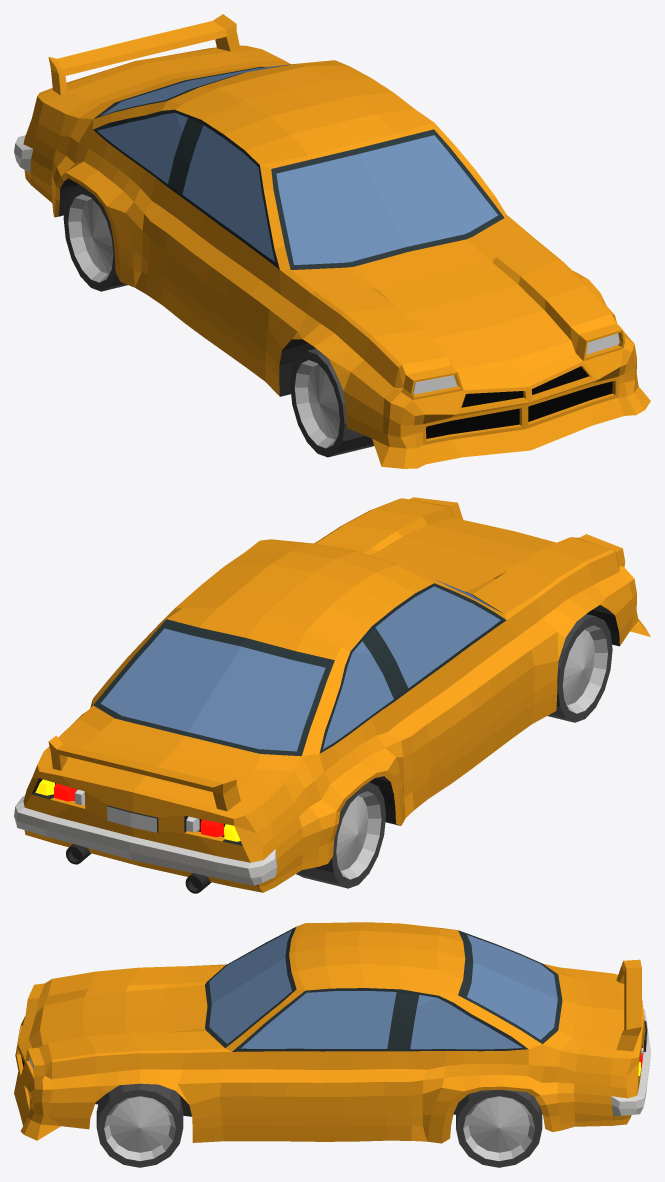
File: opel.fbx
The picture shows the model from 3 angles, top to bottom: view 1: azimuth 30°, elevation 25°; view 2: azimuth 150°, elevation 25°; view 3: azimuth 270°, elevation 25°; orthographic projection. The views are drawn at different scales.
Visible parts, largest first — view 1: Car, wheel_fr, wheel_br; view 2: Car, wheel_fr, wheel_br; view 3: Car, wheel_fl, wheel_bl.
Part boxes in pixels (x1=…): Car: x1=14, y1=14, x2=650, y2=468; wheel_fr: x1=290, y1=348, x2=374, y2=457; wheel_br: x1=63, y1=185, x2=127, y2=291; Car: x1=14, y1=497, x2=650, y2=893; wheel_fr: x1=547, y1=614, x2=612, y2=722; wheel_br: x1=296, y1=782, x2=385, y2=888; Car: x1=14, y1=922, x2=650, y2=1143; wheel_fl: x1=96, y1=1083, x2=183, y2=1167; wheel_bl: x1=456, y1=1089, x2=542, y2=1167.
Size of the model in its own units: 199 by 145 by 494.
